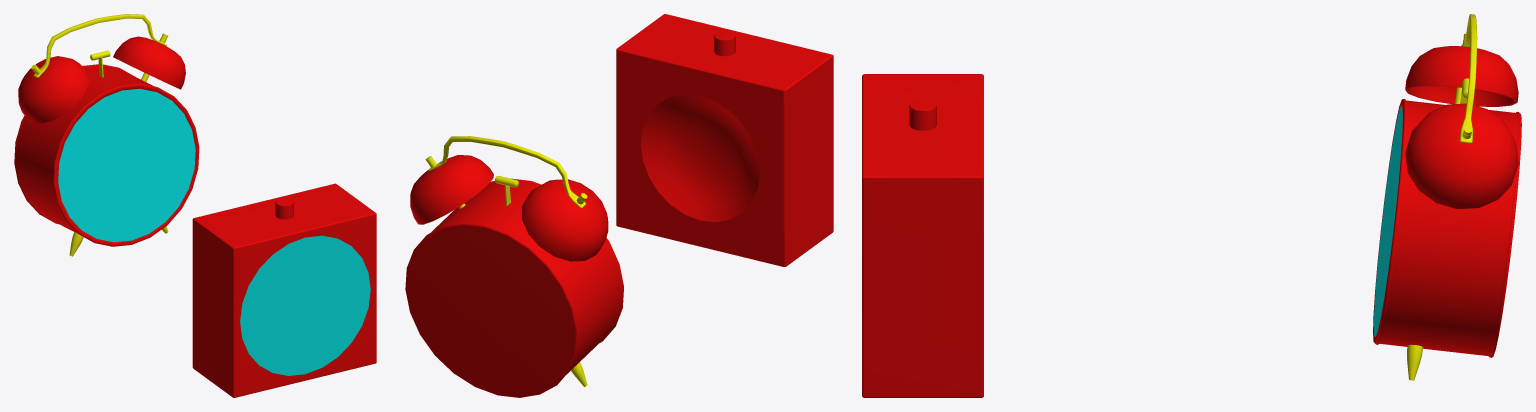
The model's file is thorkea_alarm_clocks_grp.fbx.
The picture shows the model from 3 angles, left to right: view 1: azimuth 30°, elevation 25°; view 2: azimuth 150°, elevation 25°; view 3: azimuth 270°, elevation 25°; orthographic projection. The views are drawn at different scales.
Visible parts, largest first — view 1: thorkea_alarm_clock_bajk, thorkea_alarm_clock_dekad; view 2: thorkea_alarm_clock_bajk, thorkea_alarm_clock_dekad; view 3: thorkea_alarm_clock_bajk, thorkea_alarm_clock_dekad.
Part boxes in pixels (<box>): thorkea_alarm_clock_bajk: <box>192,183,376,397</box>; thorkea_alarm_clock_dekad: <box>14,14,199,256</box>; thorkea_alarm_clock_bajk: <box>616,14,833,266</box>; thorkea_alarm_clock_dekad: <box>405,136,623,397</box>; thorkea_alarm_clock_bajk: <box>862,74,983,397</box>; thorkea_alarm_clock_dekad: <box>1373,14,1521,380</box>.
Bounding box in the file's own units: 10.94 × 13.97 × 26.87.
